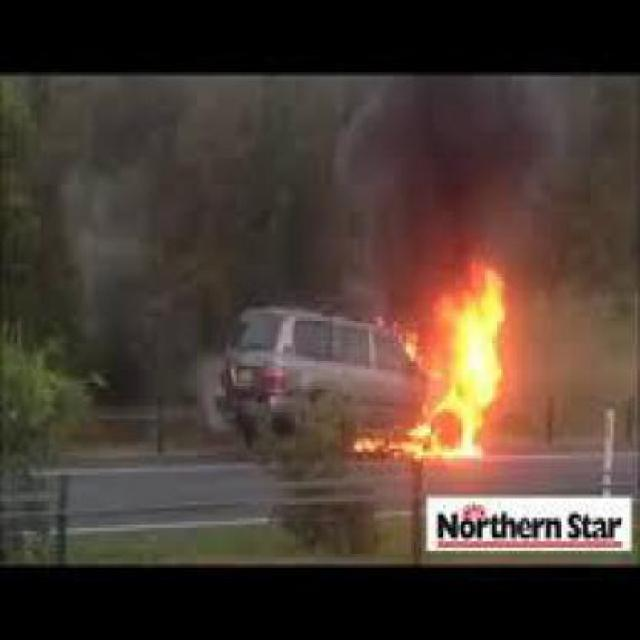fire: (372, 271, 534, 478)
